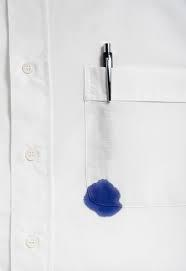ink: (84, 180, 122, 216)
